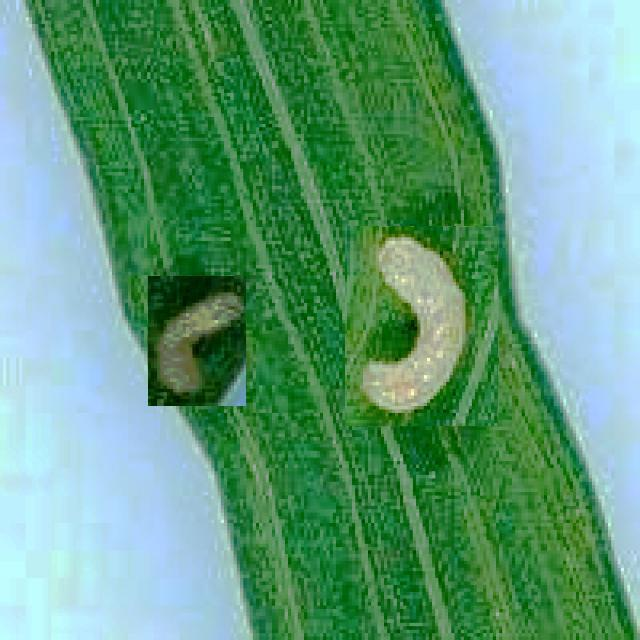whorl-maggot: (345, 226, 498, 426), (148, 276, 246, 406)
